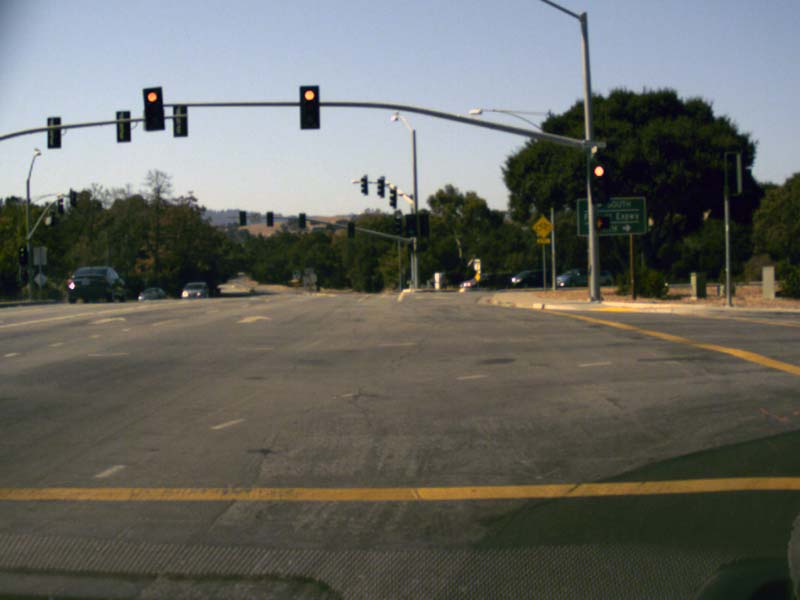Green: (346, 219, 353, 236)
Red: (142, 87, 162, 130), (300, 87, 318, 128), (590, 162, 605, 202)
